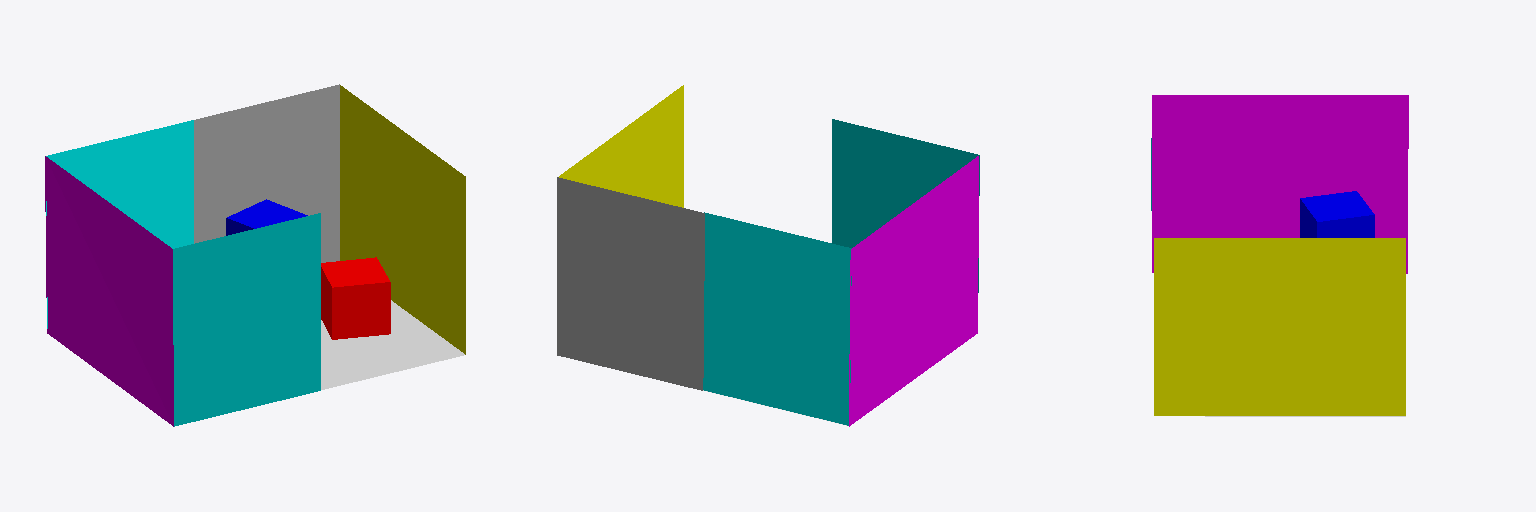
The picture shows the model from 3 angles: view 1: azimuth 30°, elevation 25°; view 2: azimuth 150°, elevation 25°; view 3: azimuth 270°, elevation 25°; orthographic projection.
Parts seen in each view (by area): view 1: GlassWall_back_wall.002, left_wall, right_wall, MirrorWall_back_wall, back_wall_back_wall.001, floor, short_box.001, tall_box.001; view 2: MirrorWall_back_wall, back_wall_back_wall.001, left_wall, GlassWall_back_wall.002, right_wall; view 3: right_wall, left_wall, tall_box.
Boxes of the visible parts, x1,y1,x2,y2 form: GlassWall_back_wall.002: [173, 213, 320, 426]; left_wall: [45, 156, 173, 426]; right_wall: [340, 85, 465, 354]; MirrorWall_back_wall: [194, 84, 339, 262]; back_wall_back_wall.001: [46, 120, 193, 328]; floor: [321, 300, 464, 389]; short_box.001: [321, 257, 390, 339]; tall_box.001: [226, 199, 307, 235]; MirrorWall_back_wall: [557, 177, 704, 390]; back_wall_back_wall.001: [703, 212, 851, 425]; left_wall: [849, 156, 978, 426]; GlassWall_back_wall.002: [832, 119, 979, 292]; right_wall: [559, 85, 683, 207]; right_wall: [1154, 238, 1405, 415]; left_wall: [1152, 95, 1408, 273]; tall_box: [1300, 191, 1374, 237].
Bounding box in the file's own units: 9.52 × 5.55 × 7.18.